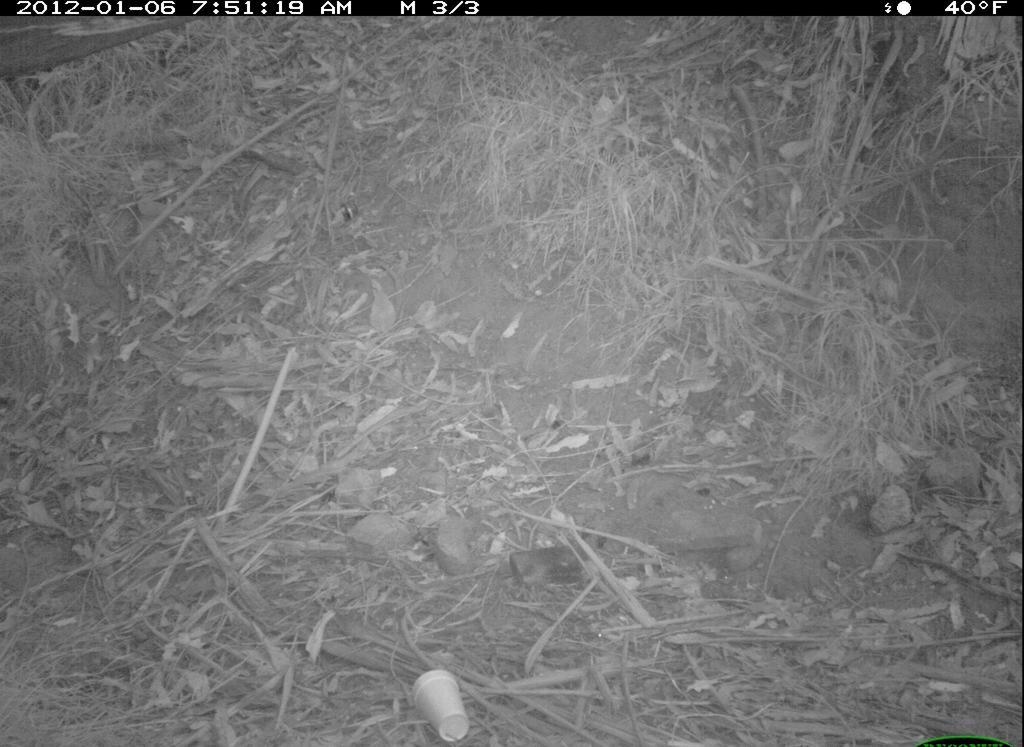dog: (1, 13, 223, 70)
